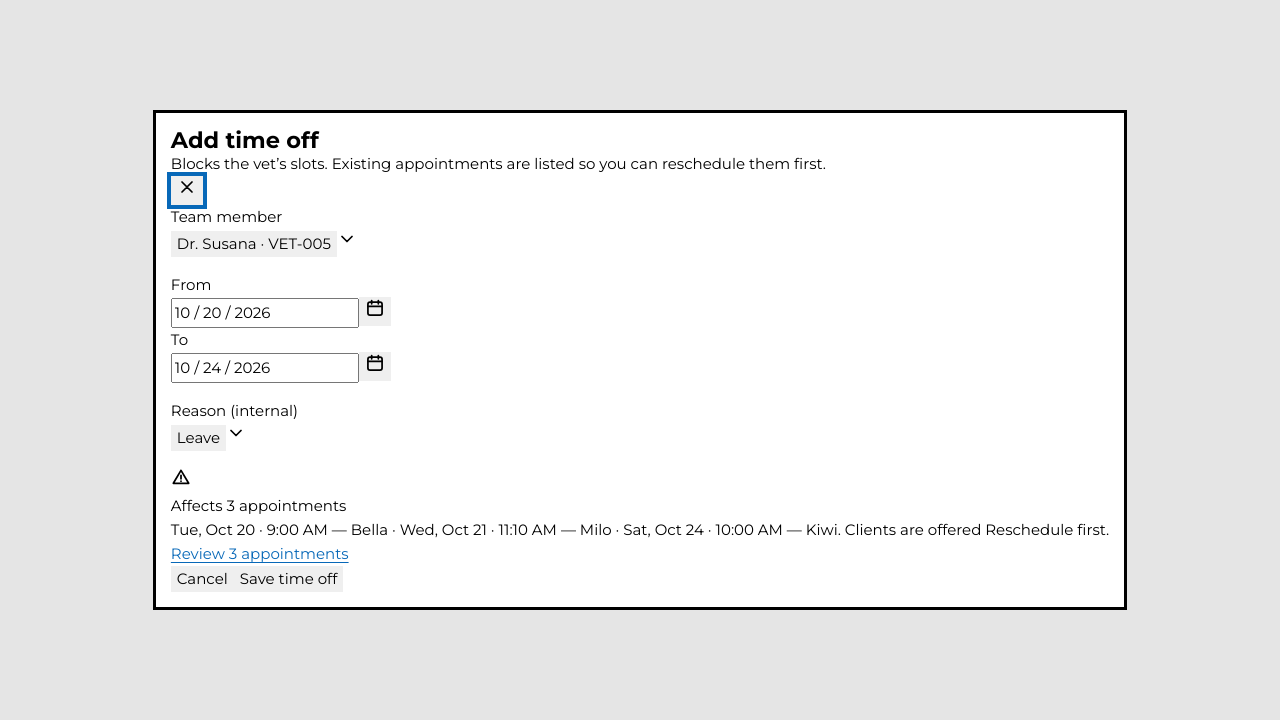
Test: TimeOffModal › saves the time off and closes
Click the button "Save time off". click: click(289, 579)
box: [234,566,343,592]
Wait 900 ms
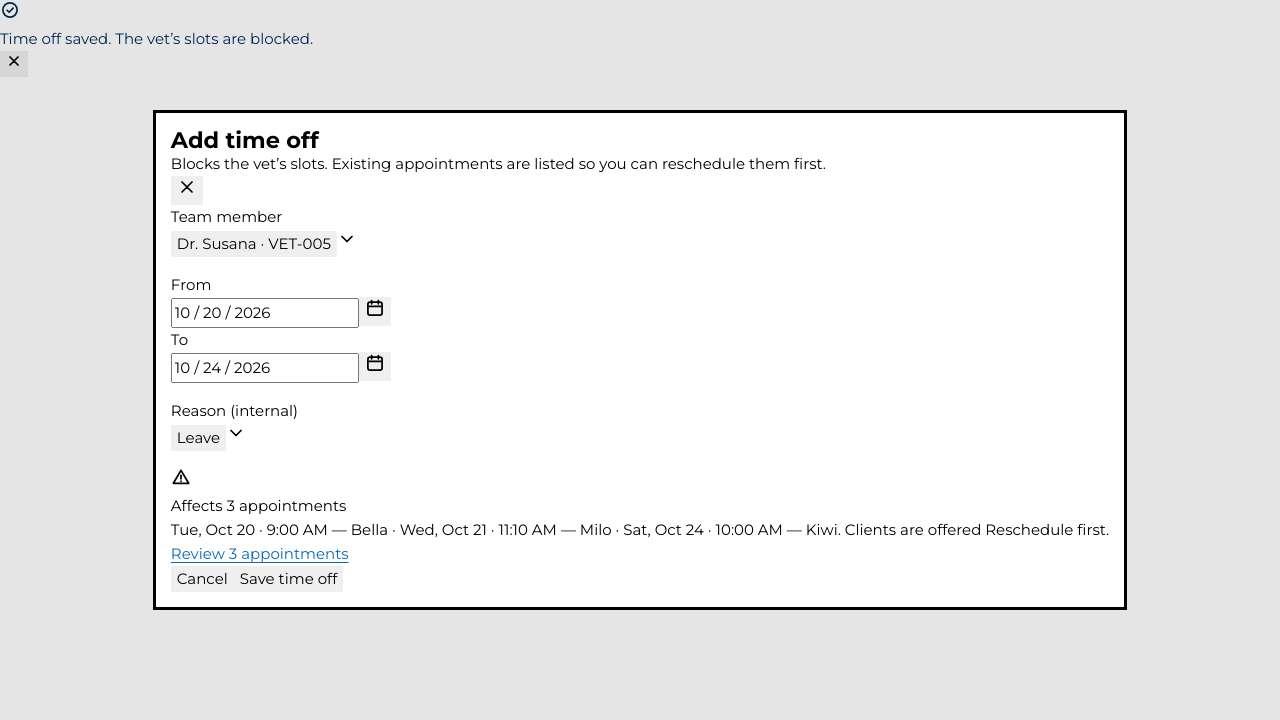
Expected: the text "Time off saved. The vet’s slots are blocked." is shown, [0,29,313,48]
